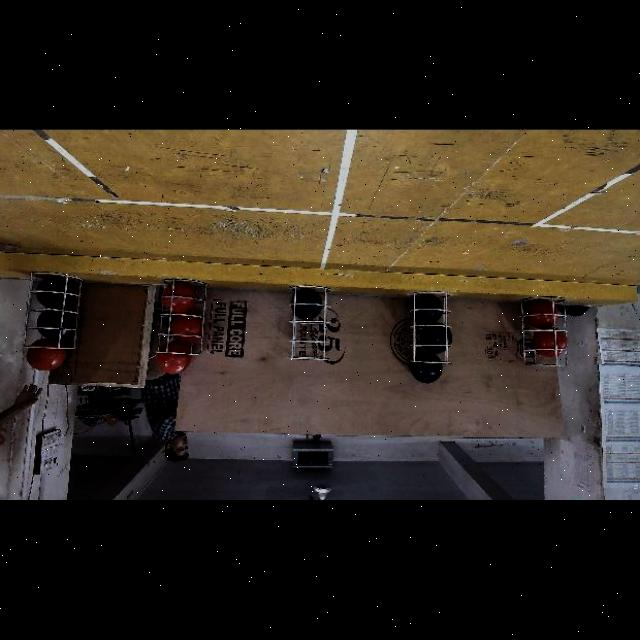P: (37, 277, 73, 309), (38, 311, 74, 339), (411, 352, 442, 383), (421, 325, 454, 351), (292, 289, 322, 317), (413, 296, 445, 322)
R: (27, 338, 66, 371), (156, 340, 192, 374), (162, 282, 194, 314), (170, 314, 203, 342), (532, 330, 566, 354), (530, 299, 556, 327)
S: (28, 274, 88, 352), (154, 276, 210, 356), (515, 296, 575, 368), (405, 288, 455, 367), (288, 282, 328, 363)
